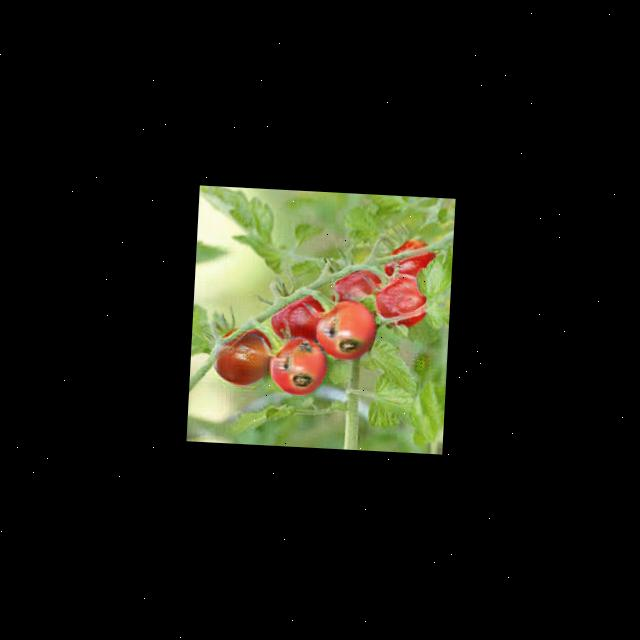tomato: (314, 302, 376, 361), (268, 338, 324, 394), (374, 272, 426, 328)
